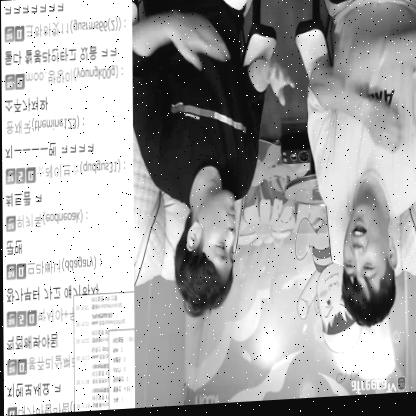streamer: (130, 0, 295, 325), (304, 0, 416, 335)
